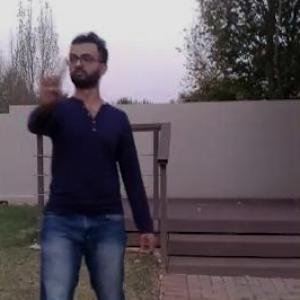takeoff-hand: (32, 55, 68, 112)
